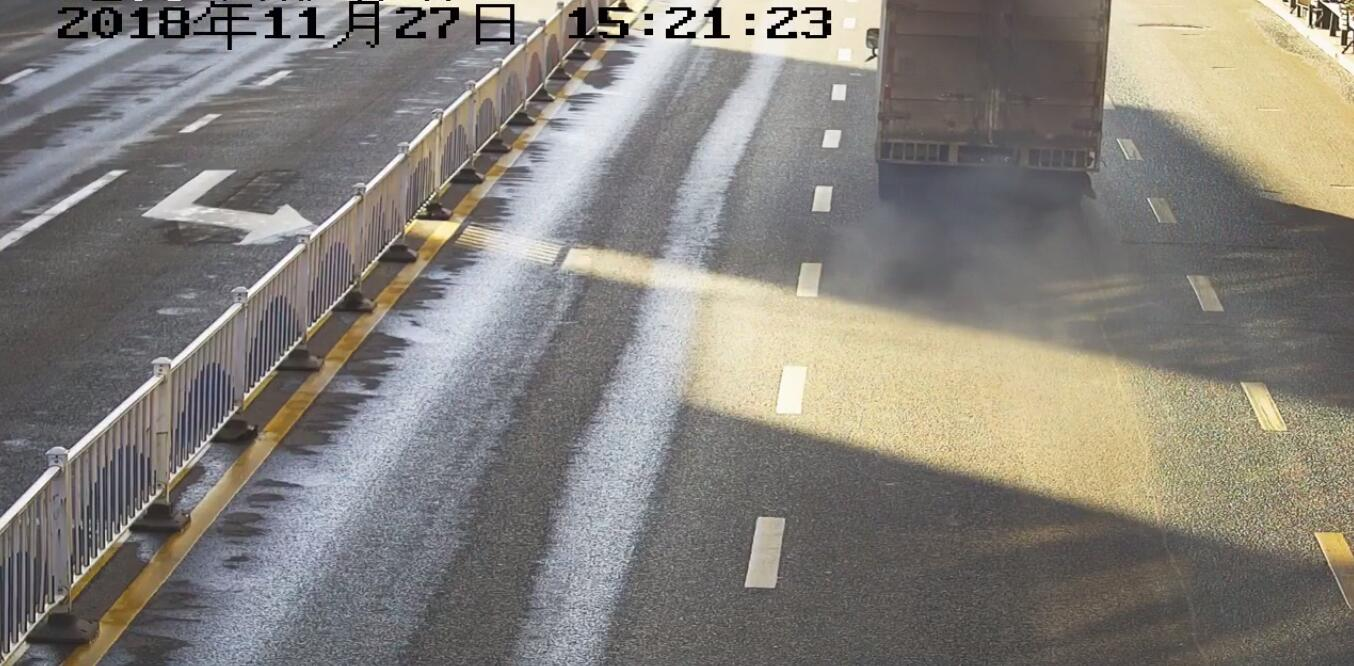yanwu: (881, 179, 1084, 291)
